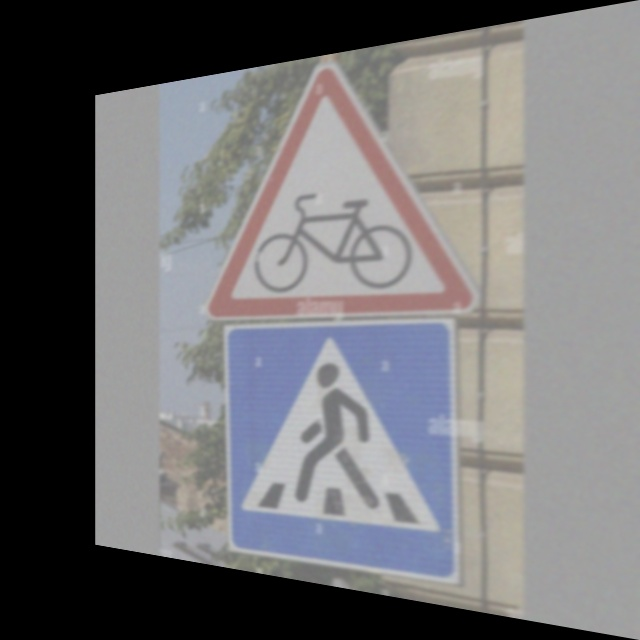Cycle_Crossing: (222, 49, 470, 312)
